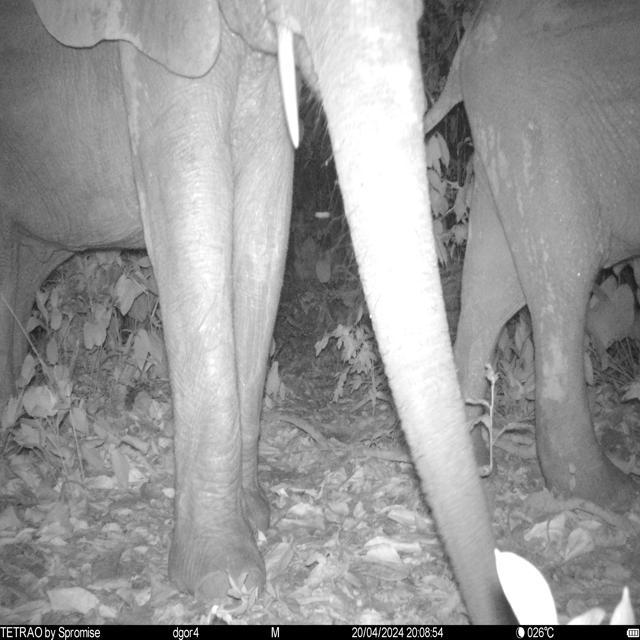ear: (33, 3, 225, 81)
elephant: (0, 0, 519, 624), (423, 1, 640, 517)
tusk: (276, 24, 302, 150)
